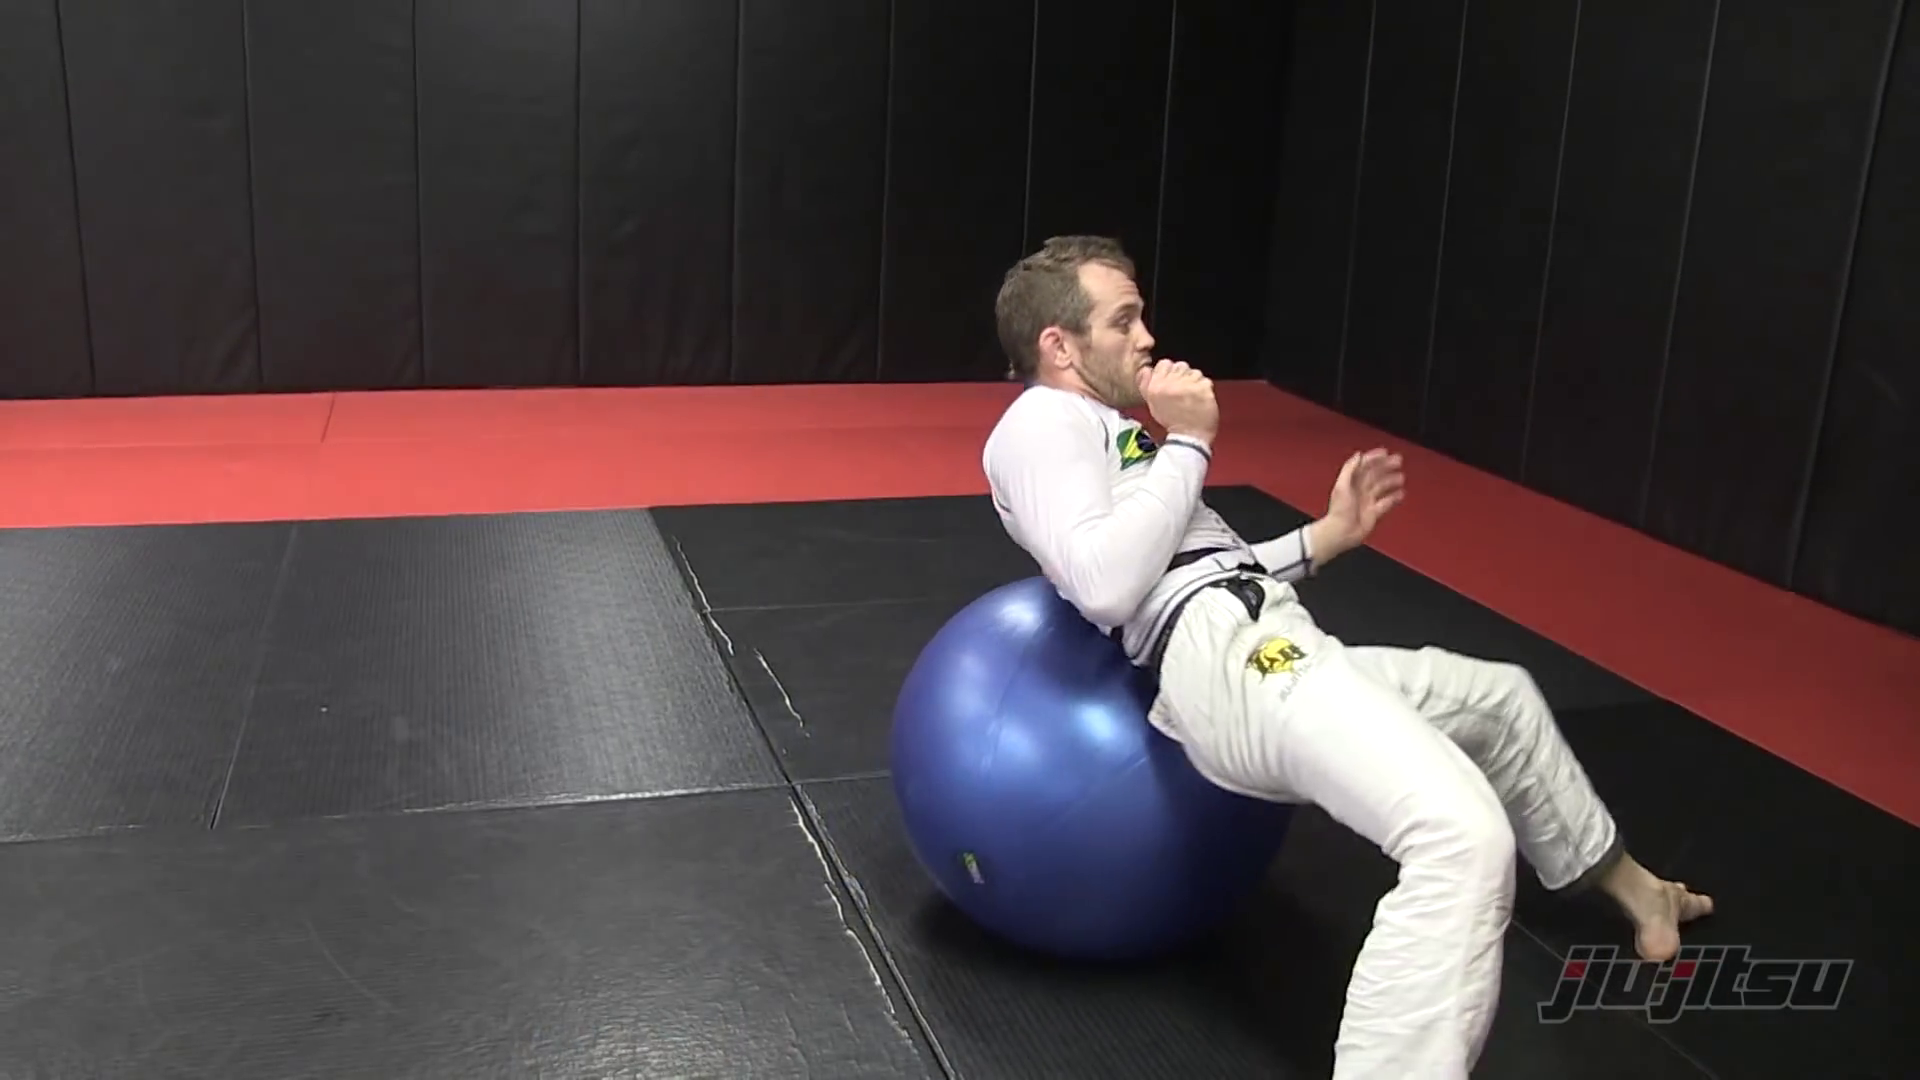yogaball: (881, 570, 1308, 989)
